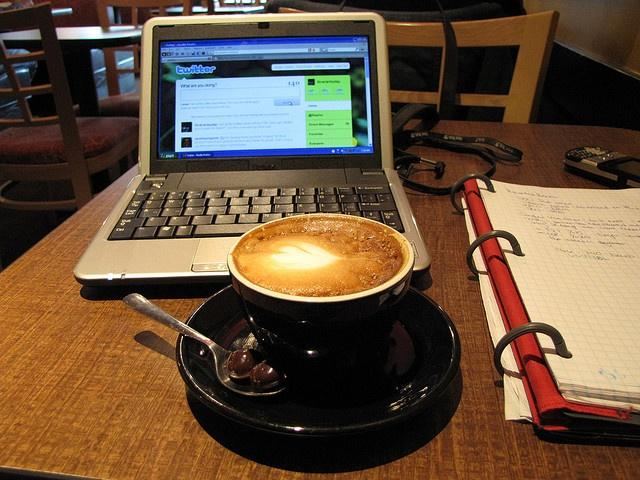Kursi: (0, 2, 139, 212)
